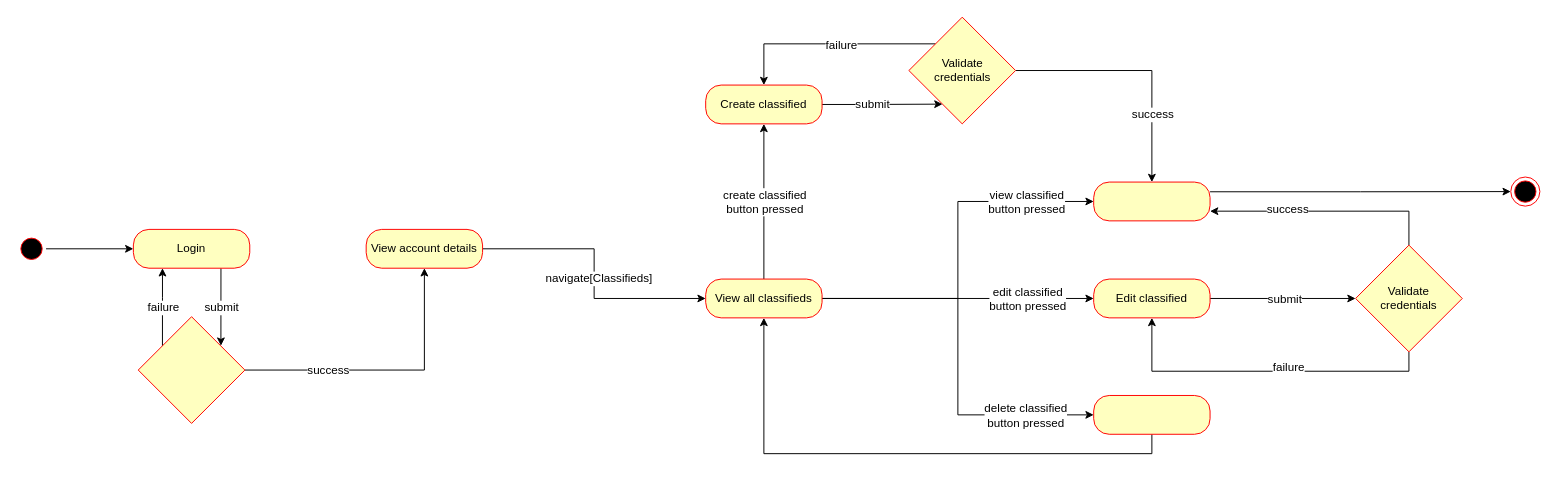
This 1557x478 diagram has some shape labels left out. Each missing label, with the centre of its shape:
Delete classified: pixel 1151 414
Verify credentials: pixel 191 369
View classified: pixel 1151 201
